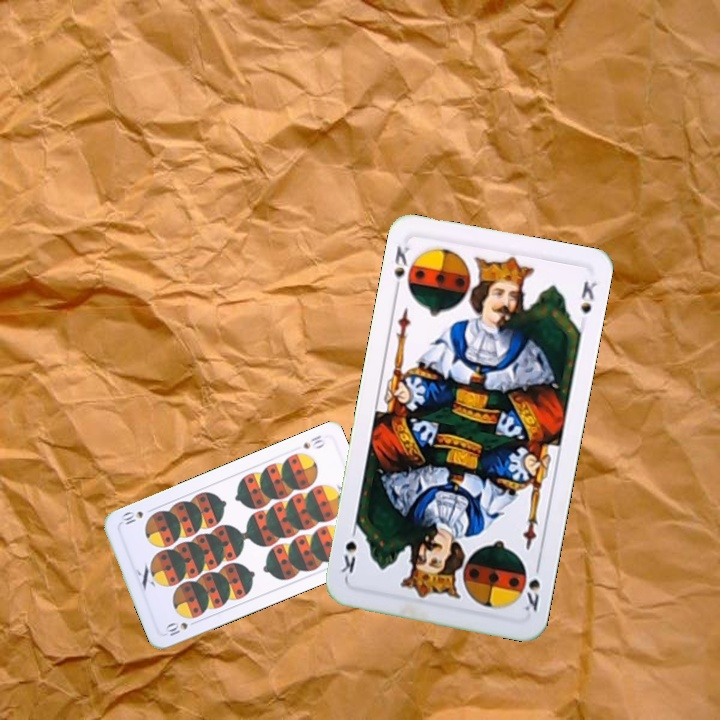S10: (161, 616, 201, 639), (299, 431, 328, 452)
SK: (520, 557, 543, 614), (390, 242, 412, 297)
